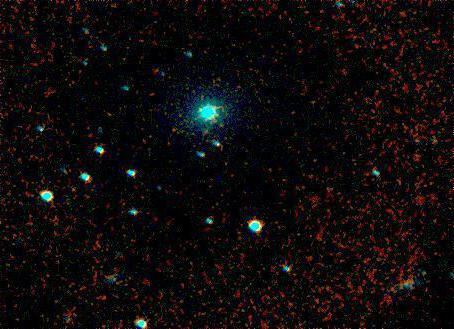star: (144, 52, 174, 82)
